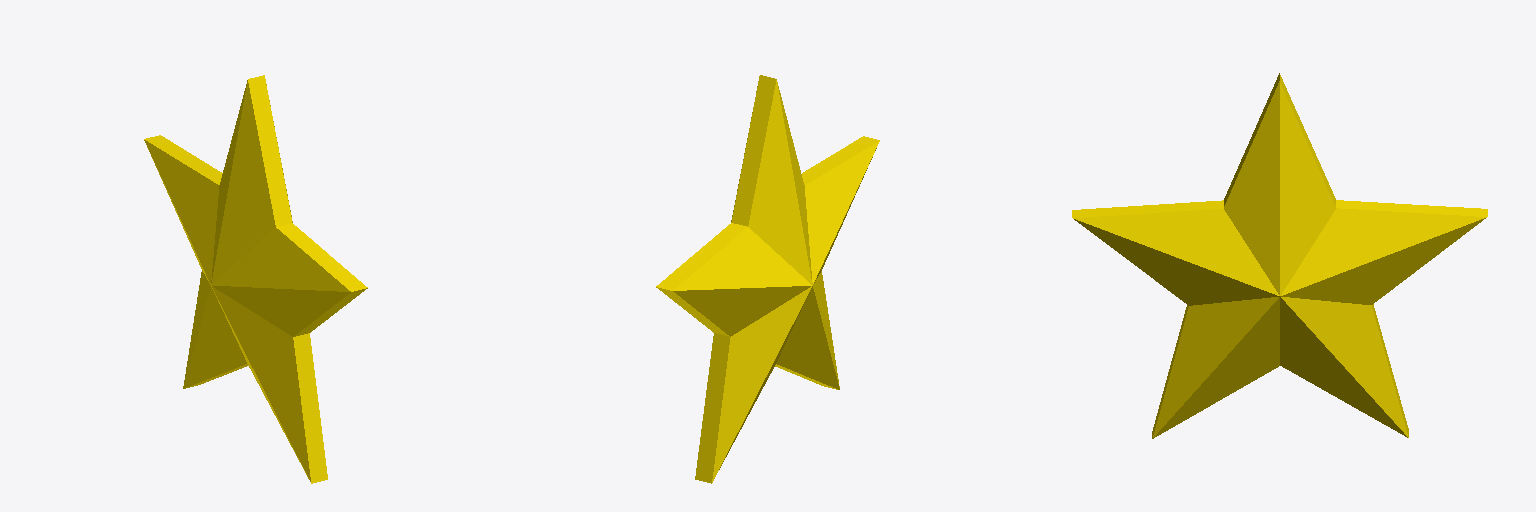
File: star.obj
3 views of the same model, side by side, from view 1: azimuth 30°, elevation 25°; view 2: azimuth 150°, elevation 25°; view 3: azimuth 270°, elevation 25° (orthographic).
Parts seen in each view (by area): view 1: Sphere; view 2: Sphere; view 3: Sphere.
Boxes of the visible parts, x1,y1,x2,y2 form: Sphere: [144, 75, 367, 483]; Sphere: [656, 75, 879, 483]; Sphere: [1072, 73, 1487, 438].
Bounding box in the file's own units: 0.4109 × 1.57 × 1.65.